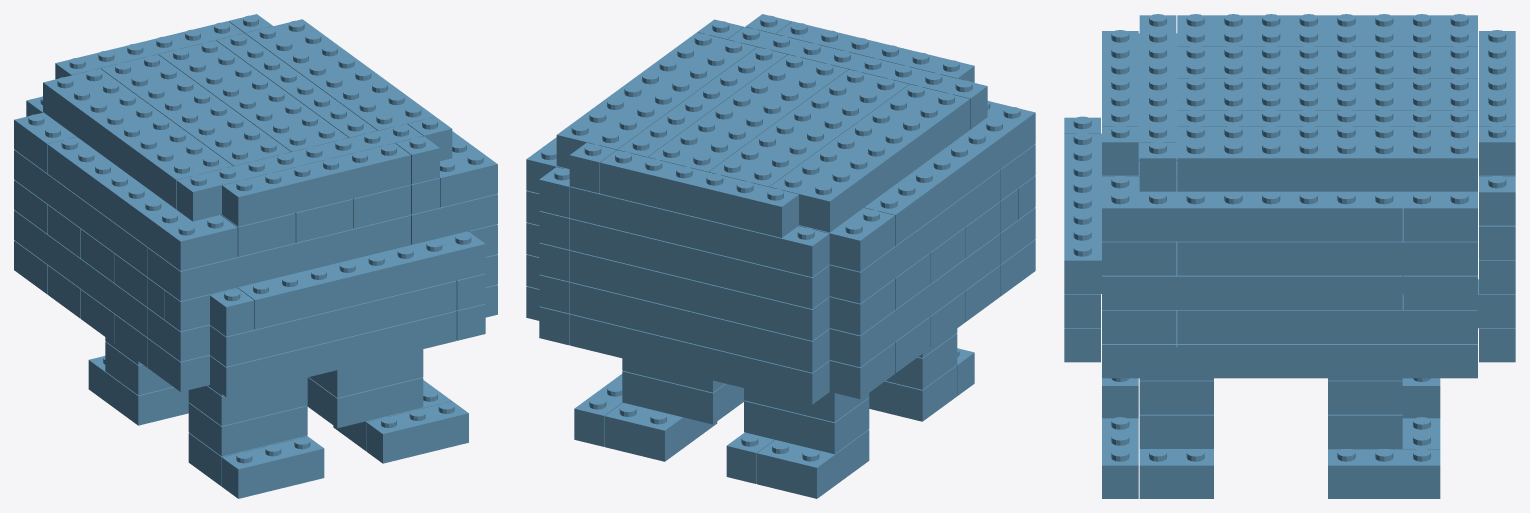
File: 213_sofa_L3.glb
3 renders of one model, left to right at view 1: azimuth 30°, elevation 25°; view 2: azimuth 150°, elevation 25°; view 3: azimuth 270°, elevation 25°, orthographic. The views are drawn at different scales.
Bounding box in the file's own units: 10.98 × 10.13 × 11.98.
